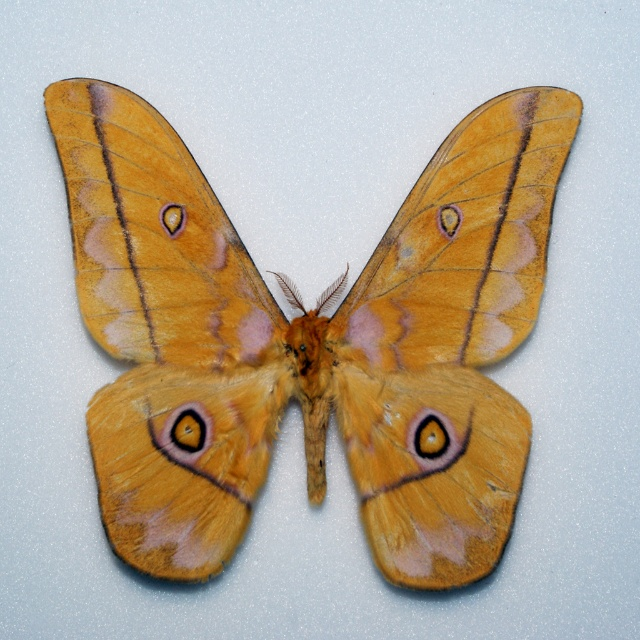Moths and butterflies: (44, 74, 585, 588)
